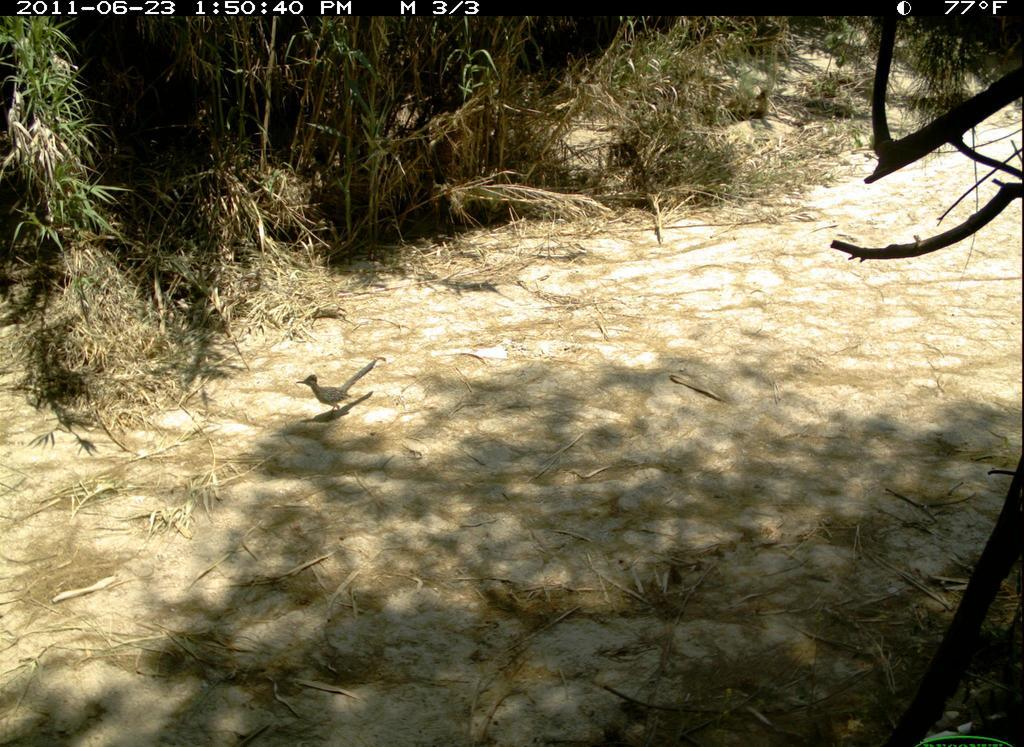bird: (294, 353, 391, 424)
